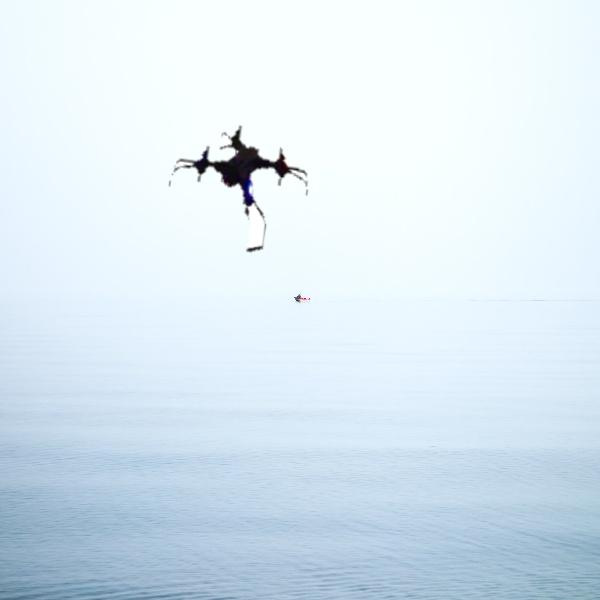drone: (164, 118, 310, 264)
